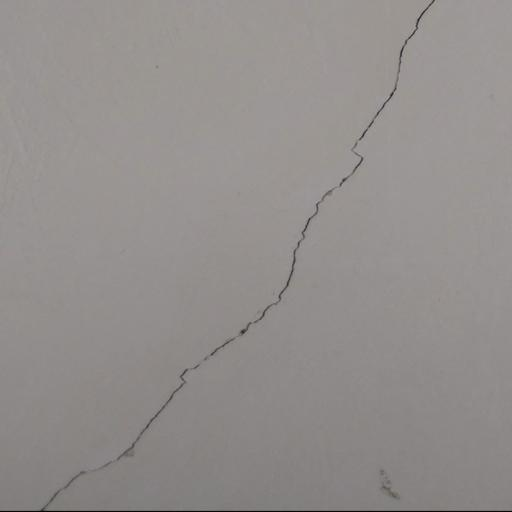major_crack: (34, 0, 447, 512)
